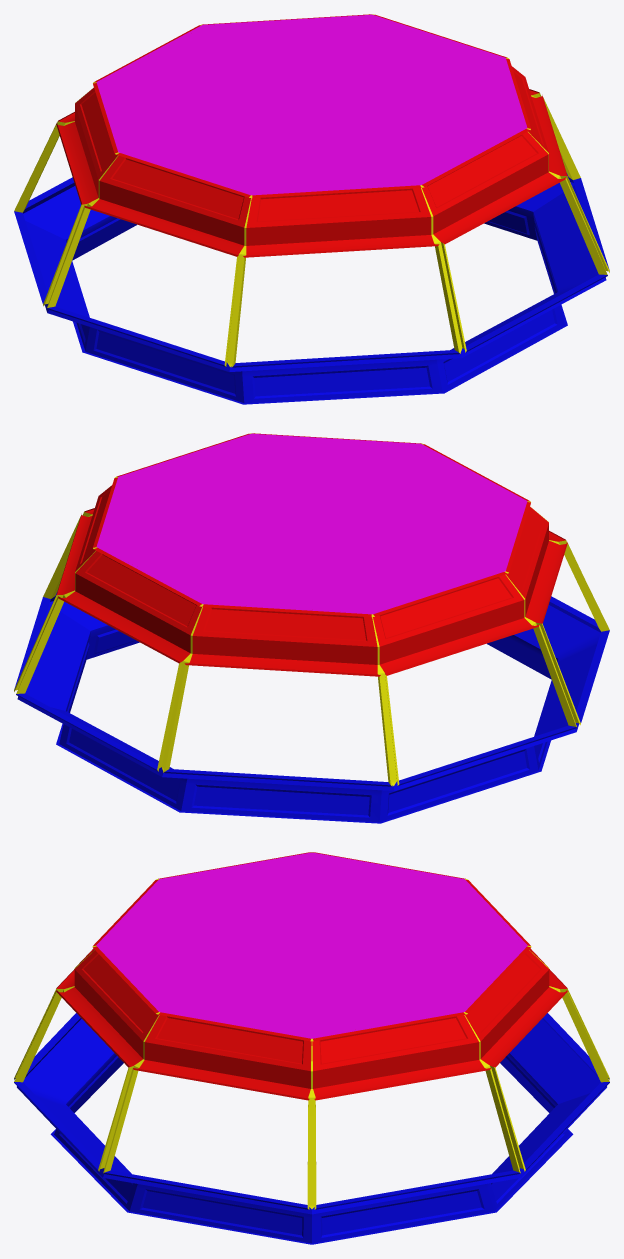
Rendered from Murs2.fbx.
3 views of the same model, one above another, from view 1: azimuth 30°, elevation 25°; view 2: azimuth 150°, elevation 25°; view 3: azimuth 270°, elevation 25° (orthographic).
Visible parts, largest first — view 1: Roof, Top, Bot, Inter; view 2: Roof, Top, Bot, Inter; view 3: Roof, Top, Bot, Inter.
Boxes of the visible parts, box(x1,y1,x2,y2) form: Roof: box(96, 14, 527, 195); Top: box(56, 14, 567, 257); Bot: box(14, 173, 609, 404); Inter: box(14, 14, 609, 367); Roof: box(96, 433, 527, 614); Top: box(56, 433, 567, 676); Bot: box(14, 592, 609, 823); Inter: box(14, 433, 609, 786); Roof: box(96, 852, 527, 1038); Top: box(56, 852, 567, 1100); Bot: box(14, 1013, 609, 1244); Inter: box(14, 852, 609, 1209).
Size of the model in its own units: 938 by 321 by 920.
